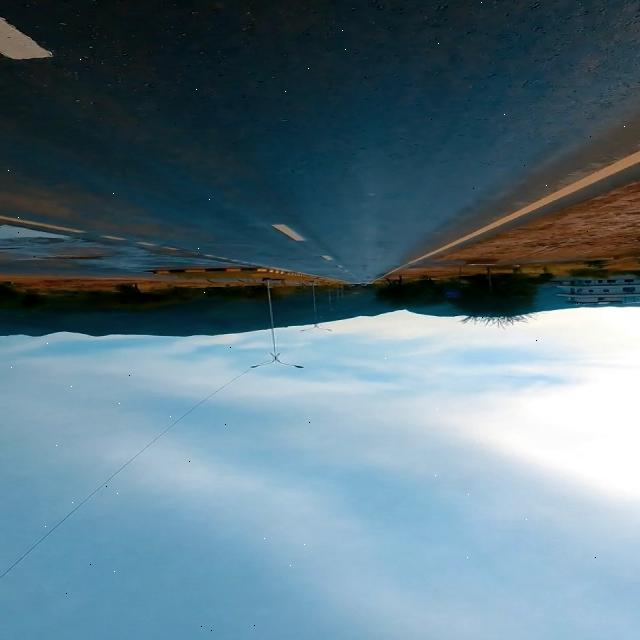lane: (375, 151, 640, 281)
road: (4, 1, 638, 282), (375, 151, 640, 281)
